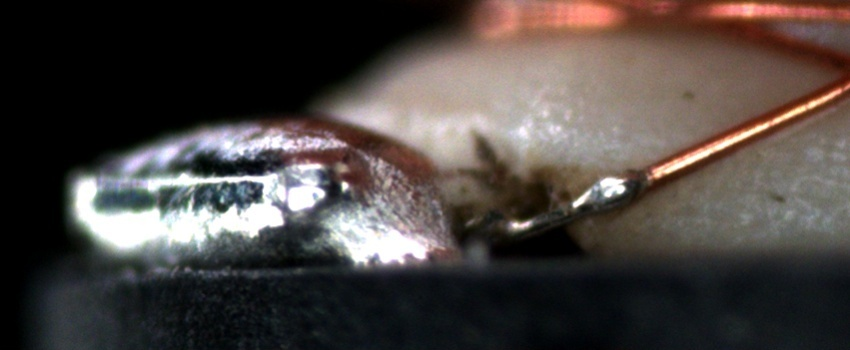TS: (502, 169, 649, 241)
TTCW: (493, 146, 695, 241)
